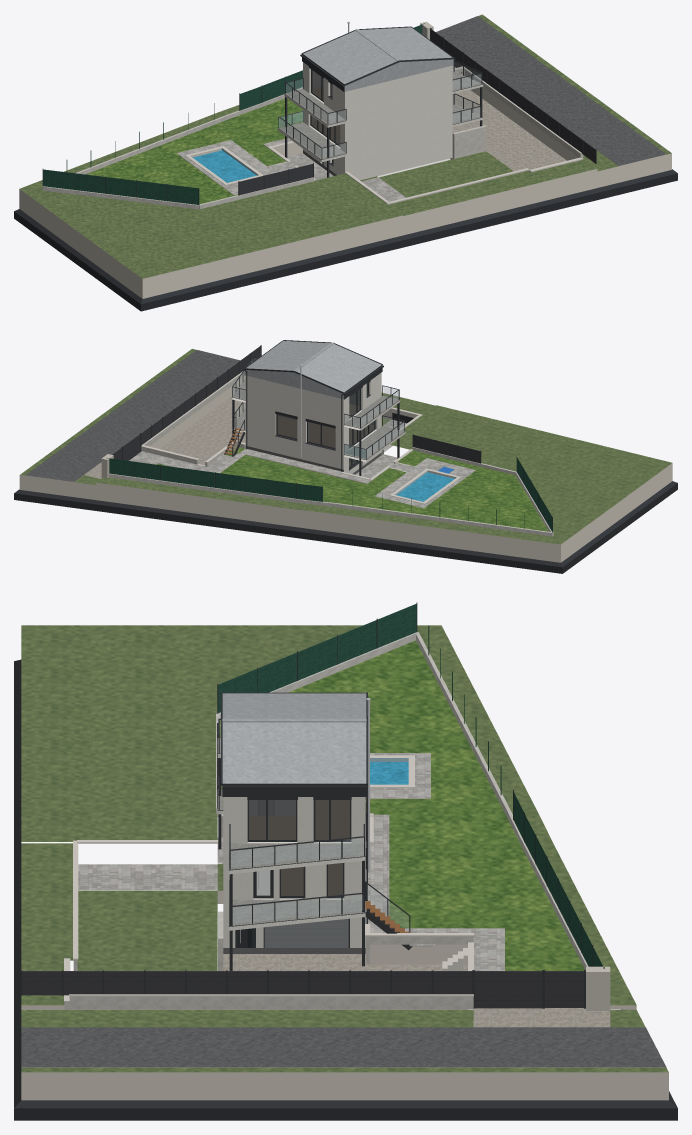
File: dum-b-konfigurator.glb
3 renders of one model, top to bottom at view 1: azimuth 30°, elevation 25°; view 2: azimuth 150°, elevation 25°; view 3: azimuth 270°, elevation 25°, orthographic. The views are drawn at different scales.
Visible parts, largest first — view 1: Teren_trava_okoli, Teren_rez, B_ext_omitka, Teren_asfalt, Teren_podstava, Teren_trava, B_ext_strecha, Teren_beton, Teren_sit_zelena, Teren_dlazba_dvur, Teren_plot_panel, B_ext_antracit (+7 smaller); view 2: Teren_trava_okoli, Teren_rez, Teren_trava, Teren_podstava, B_ext_omitka, Teren_asfalt, B_ext_strecha, Teren_sit_zelena, Teren_dlazba, Teren_beton, B_ext_antracit, Teren_dlazba_dvur (+9 smaller); view 3: Teren_trava_okoli, Teren_trava, Teren_asfalt, Teren_rez, Teren_podstava, Teren_plot_panel, B_ext_strecha, Teren_beton, Teren_dlazba, Teren_sit_zelena, B_ext_omitka, B_ext_antracit (+11 smaller).
Part boxes in pixels (left/top/right/bottom): Teren_trava_okoli: left=20, top=14, right=671, bottom=278; Teren_rez: left=19, top=73, right=671, bottom=298; B_ext_omitka: left=278, top=62, right=483, bottom=180; Teren_asfalt: left=436, top=16, right=666, bottom=165; Teren_podstava: left=14, top=169, right=677, bottom=311; Teren_trava: left=85, top=98, right=302, bottom=204; B_ext_strecha: left=303, top=27, right=453, bottom=91; Teren_beton: left=42, top=69, right=583, bottom=209; Teren_sit_zelena: left=43, top=24, right=423, bottom=204; Teren_dlazba_dvur: left=448, top=41, right=566, bottom=171; Teren_plot_panel: left=239, top=29, right=595, bottom=194; B_ext_antracit: left=279, top=26, right=482, bottom=177; Teren_trava_okoli: left=20, top=349, right=672, bottom=544; Teren_rez: left=19, top=367, right=672, bottom=562; Teren_trava: left=156, top=446, right=548, bottom=531; Teren_podstava: left=14, top=412, right=677, bottom=573; B_ext_omitka: left=231, top=372, right=405, bottom=473; Teren_asfalt: left=26, top=350, right=239, bottom=481; B_ext_strecha: left=245, top=340, right=381, bottom=399; Teren_sit_zelena: left=107, top=457, right=552, bottom=531; Teren_dlazba: left=129, top=420, right=475, bottom=507; Teren_beton: left=108, top=372, right=553, bottom=536; B_ext_antracit: left=224, top=340, right=405, bottom=475; Teren_dlazba_dvur: left=84, top=396, right=245, bottom=478; Teren_trava_okoli: left=21, top=625, right=668, bottom=1072; Teren_trava: left=219, top=640, right=584, bottom=970; Teren_asfalt: left=21, top=1027, right=665, bottom=1067; Teren_rez: left=21, top=798, right=668, bottom=1100; Teren_podstava: left=14, top=659, right=677, bottom=1120; Teren_plot_panel: left=22, top=724, right=583, bottom=1008; B_ext_strecha: left=222, top=693, right=366, bottom=783; Teren_beton: left=64, top=632, right=588, bottom=1009; Teren_dlazba: left=78, top=753, right=504, bottom=970; Teren_sit_zelena: left=218, top=603, right=602, bottom=966; B_ext_omitka: left=217, top=754, right=365, bottom=947; B_ext_antracit: left=217, top=692, right=412, bottom=970.
Size of the model in its own units: 50.3 by 12.28 by 31.57.
58 materials, 16 textured.
